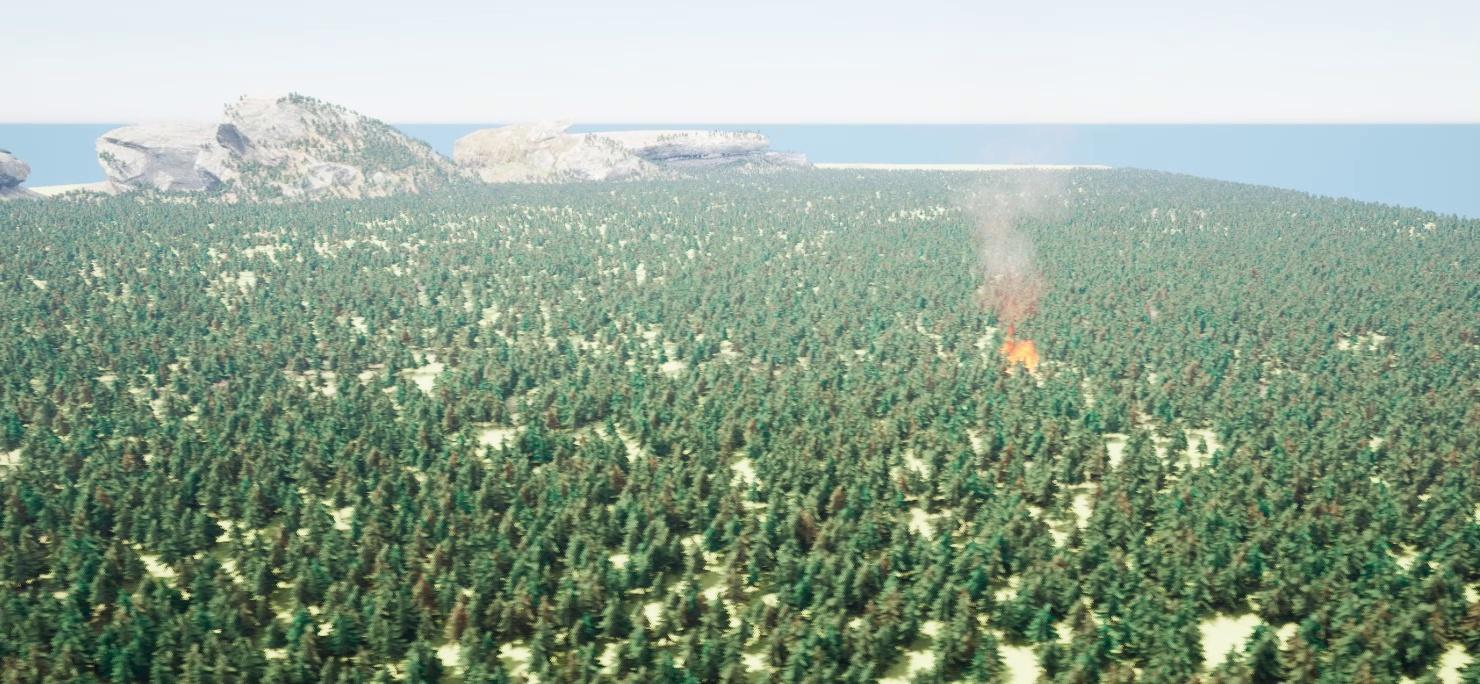fire: (998, 333, 1036, 369)
smoke: (969, 162, 1057, 329)
